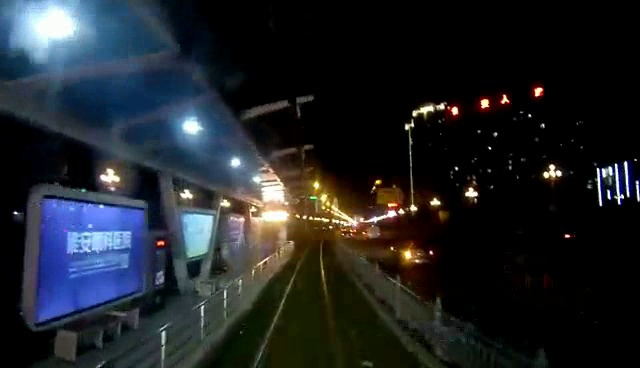car: (393, 238, 435, 271)
